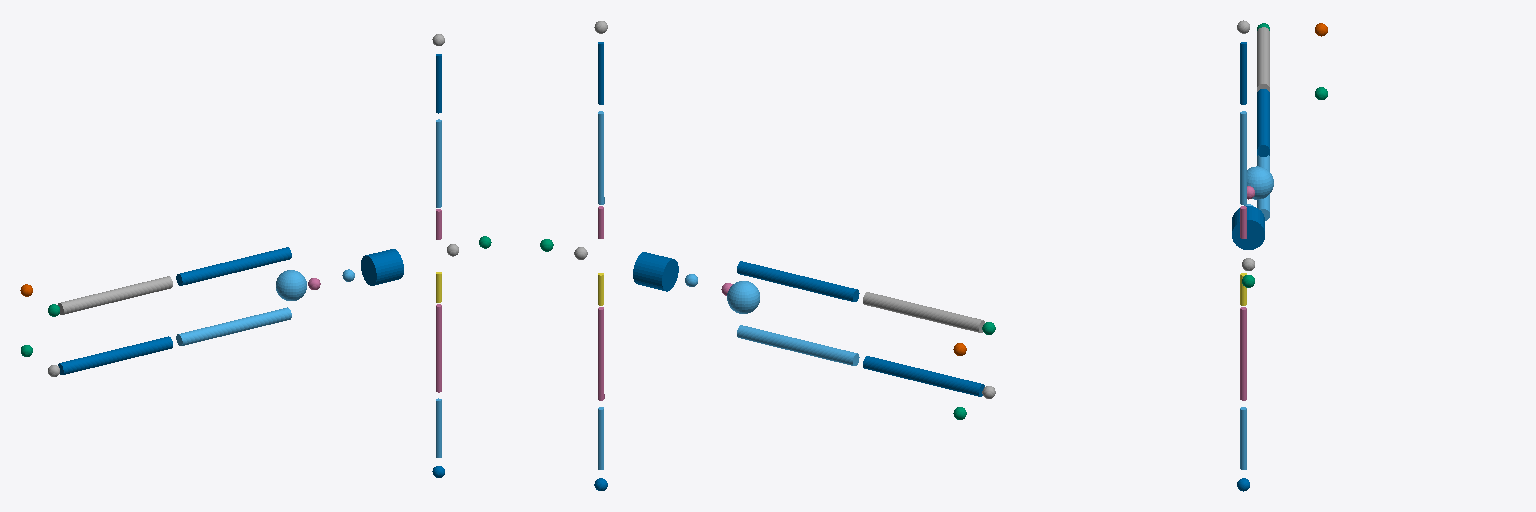
--- What the picture shows (computed from the rendered views, not written in the file) ---
The picture shows the robot from 3 angles, left to right: view 1: azimuth 30°, elevation 25°; view 2: azimuth 150°, elevation 25°; view 3: azimuth 270°, elevation 25°; orthographic projection.
Robot: bvh_human_3dof_tpose — 70 links, 69 joints (27 revolute, 41 fixed, 1 floating); root link world; default pose: every joint at zero.
Links seen in each view (by area): view 1: LeftUpLeg, RightUpLeg, RightLeg, LeftLeg, Spine2, Hips, LeftArm, RightArm; view 2: LeftUpLeg, RightUpLeg, LeftLeg, RightLeg, Spine2, Hips, LeftArm, RightArm; view 3: Spine2, LeftUpLeg, LeftLeg, Hips, LeftArm, RightArm.
Boxes of the visible links, x1=… form: LeftUpLeg: x1=176, y1=247, x2=291, y2=285; RightUpLeg: x1=176, y1=307, x2=291, y2=345; RightLeg: x1=58, y1=336, x2=172, y2=374; LeftLeg: x1=58, y1=276, x2=172, y2=314; Spine2: x1=361, y1=249, x2=403, y2=285; Hips: x1=276, y1=270, x2=306, y2=300; LeftArm: x1=436, y1=119, x2=441, y2=207; RightArm: x1=436, y1=304, x2=441, y2=392; LeftUpLeg: x1=737, y1=261, x2=859, y2=301; RightUpLeg: x1=737, y1=325, x2=859, y2=365; LeftLeg: x1=863, y1=292, x2=984, y2=332; RightLeg: x1=863, y1=356, x2=984, y2=396; Spine2: x1=633, y1=252, x2=678, y2=291; Hips: x1=727, y1=281, x2=759, y2=313; LeftArm: x1=598, y1=111, x2=604, y2=204; RightArm: x1=598, y1=307, x2=604, y2=400; Spine2: x1=1232, y1=206, x2=1264, y2=249; LeftUpLeg: x1=1257, y1=89, x2=1269, y2=156; LeftLeg: x1=1257, y1=27, x2=1269, y2=91; Hips: x1=1247, y1=166, x2=1273, y2=199; LeftArm: x1=1240, y1=111, x2=1246, y2=204; RightArm: x1=1240, y1=307, x2=1246, y2=400.
Bounding box of the posed robot: 1.59 × 0.2876 × 1.55 m (x, y, z).
Geometry: primitives only (box / cylinder / sphere), no mesh files.

The robot description file, URDF, robot "bvh_human_3dof_tpose":
<?xml version="1.0"?>
<robot name="bvh_human_3dof_tpose">

  <mujoco>
    <compiler meshdir="meshes" 
              fusestatic="false"
              discardvisual="false"
              strippath="false"
              balanceinertia="true"/>
  </mujoco>

  <!-- [CAUTION] uncomment when convert to mujoco -->
  <link name="world"></link>
  <joint name="floating_base_joint" type="floating">
    <parent link="world"/>
    <child link="Hips"/>
  </joint>

  <link name="Hips">
    <inertial>
      <origin xyz="0 0 0" rpy="0 0 0"/>
      <mass value="1.0"/>
      <inertia ixx="0.01" ixy="0.0" ixz="0.0" iyy="0.01" iyz="0.0" izz="0.01"/>
    </inertial>
    <visual>
      <geometry>
        <sphere radius="0.05"/>
      </geometry>
    </visual>
  </link>

  <!-- ==================== Left Leg ==================== -->
  <link name="LeftUpLeg_rz">
    <inertial>
      <origin xyz="0 0 0" rpy="0 0 0"/>
      <mass value="1.0"/>
      <inertia ixx="0.01" ixy="0.0" ixz="0.0" iyy="0.01" iyz="0.0" izz="0.01"/>
    </inertial>
  </link>

  <link name="LeftUpLeg_ry">
    <inertial>
      <origin xyz="0 0 0" rpy="0 0 0"/>
      <mass value="1.0"/>
      <inertia ixx="0.01" ixy="0.0" ixz="0.0" iyy="0.01" iyz="0.0" izz="0.01"/>
    </inertial>
  </link>

  <link name="LeftUpLeg">
    <inertial>
      <origin xyz="0 0 0" rpy="0 0 0"/>
      <mass value="1.0"/>
      <inertia ixx="0.01" ixy="0.0" ixz="0.0" iyy="0.01" iyz="0.0" izz="0.01"/>
    </inertial>
    <visual>
      <origin xyz="0.2 -0.0 -0.0" rpy="0 1.57 0" />
      <geometry>
        <cylinder radius="0.02" length="0.4" />
      </geometry>
    </visual>
  </link>

  <!-- LeftUpLeg Z/Y/X = (-180, 0, 180) deg -->
  <joint name="Hips_to_LeftUpLeg_rz" type="revolute">
    <parent link="Hips"/>
    <child link="LeftUpLeg_rz"/>
    <origin xyz="0.00103457 0.01857820 0.10548506" rpy="0 0 -3.1415927"/>
    <axis xyz="0 0 1"/>
    <limit lower="-3.14159" upper="3.14159" effort="100" velocity="10"/>
  </joint>

  <joint name="LeftUpLeg_rz_to_LeftUpLeg_ry" type="revolute">
    <parent link="LeftUpLeg_rz"/>
    <child link="LeftUpLeg_ry"/>
    <origin xyz="0 0 0" rpy="0 0 0"/>
    <axis xyz="0 1 0"/>
    <limit lower="-3.14159" upper="3.14159" effort="100" velocity="10"/>
  </joint>

  <joint name="LeftUpLeg_ry_to_LeftUpLeg" type="revolute">
    <parent link="LeftUpLeg_ry"/>
    <child link="LeftUpLeg"/>
    <origin xyz="0 0 0" rpy="3.1415927 0 0"/>
    <axis xyz="1 0 0"/>
    <limit lower="-3.14159" upper="3.14159" effort="100" velocity="10"/>
  </joint>

  <link name="LeftLeg_rz">
    <inertial>
      <origin xyz="0 0 0" rpy="0 0 0"/>
      <mass value="1.0"/>
      <inertia ixx="0.01" ixy="0.0" ixz="0.0" iyy="0.01" iyz="0.0" izz="0.01"/>
    </inertial>
  </link>

  <link name="LeftLeg_ry">
    <inertial>
      <origin xyz="0 0 0" rpy="0 0 0"/>
      <mass value="1.0"/>
      <inertia ixx="0.01" ixy="0.0" ixz="0.0" iyy="0.01" iyz="0.0" izz="0.01"/>
    </inertial>
  </link>

  <link name="LeftLeg">
    <inertial>
      <origin xyz="0 0 0" rpy="0 0 0"/>
      <mass value="1.0"/>
      <inertia ixx="0.01" ixy="0.0" ixz="0.0" iyy="0.01" iyz="0.0" izz="0.01"/>
    </inertial>
    <visual>
      <origin xyz="0.2 -0.0 -0.0" rpy="0 1.57 0" />
      <geometry>
        <cylinder radius="0.02" length="0.4" />
      </geometry>
    </visual>
  </link>

  <!-- LeftLeg Z/Y/X = (0,0,0) -->
  <joint name="LeftUpLeg_to_LeftLeg_rz" type="revolute">
    <parent link="LeftUpLeg"/>
    <child link="LeftLeg_rz"/>
    <origin xyz="0.43500000 -0.00000019 0.00000002" rpy="0 0 0"/>
    <axis xyz="0 0 1"/>
    <limit lower="-3.14159" upper="3.14159" effort="100" velocity="10"/>
  </joint>

  <joint name="LeftLeg_rz_to_LeftLeg_ry" type="fixed">
    <parent link="LeftLeg_rz"/>
    <child link="LeftLeg_ry"/>
    <origin xyz="0 0 0" rpy="0 0 0"/>
    <axis xyz="0 1 0"/>
    <limit lower="-3.14159" upper="3.14159" effort="100" velocity="10"/>
  </joint>

  <joint name="LeftLeg_ry_to_LeftLeg" type="fixed">
    <parent link="LeftLeg_ry"/>
    <child link="LeftLeg"/>
    <origin xyz="0 0 0" rpy="0 0 0"/>
    <axis xyz="1 0 0"/>
    <limit lower="-3.14159" upper="3.14159" effort="100" velocity="10"/>
  </joint>

  <link name="LeftFoot_rz">
    <inertial>
      <origin xyz="0 0 0" rpy="0 0 0"/>
      <mass value="1.0"/>
      <inertia ixx="0.01" ixy="0.0" ixz="0.0" iyy="0.01" iyz="0.0" izz="0.01"/>
    </inertial>
  </link>

  <link name="LeftFoot_ry">
    <inertial>
      <origin xyz="0 0 0" rpy="0 0 0"/>
      <mass value="1.0"/>
      <inertia ixx="0.01" ixy="0.0" ixz="0.0" iyy="0.01" iyz="0.0" izz="0.01"/>
    </inertial>
  </link>

  <link name="LeftFoot">
    <inertial>
      <origin xyz="0 0 0" rpy="0 0 0"/>
      <mass value="1.0"/>
      <inertia ixx="0.01" ixy="0.0" ixz="0.0" iyy="0.01" iyz="0.0" izz="0.01"/>
    </inertial>
    <visual>
      <geometry>
        <sphere radius="0.02"/>
      </geometry>
    </visual>
  </link>

  <!-- LeftFoot Z/Y/X = (90, 0, 0) deg -->
  <joint name="LeftLeg_to_LeftFoot_rz" type="revolute">
    <parent link="LeftLeg"/>
    <child link="LeftFoot_rz"/>
    <origin xyz="0.42372200 -0.00000004 0.00000003" rpy="0 0 1.5707963"/>
    <axis xyz="0 0 1"/>
    <limit lower="-3.14159" upper="3.14159" effort="100" velocity="10"/>
  </joint>

  <joint name="LeftFoot_rz_to_LeftFoot_ry" type="fixed">
    <parent link="LeftFoot_rz"/>
    <child link="LeftFoot_ry"/>
    <origin xyz="0 0 0" rpy="0 0 0"/>
    <axis xyz="0 1 0"/>
    <limit lower="-3.14159" upper="3.14159" effort="100" velocity="10"/>
  </joint>

  <joint name="LeftFoot_ry_to_LeftFoot" type="revolute">
    <parent link="LeftFoot_ry"/>
    <child link="LeftFoot"/>
    <origin xyz="0 0 0" rpy="0 0 0"/>
    <axis xyz="1 0 0"/>
    <limit lower="-3.14159" upper="3.14159" effort="100" velocity="10"/>
  </joint>

  <link name="LeftToe_rz">
    <inertial>
      <origin xyz="0 0 0" rpy="0 0 0"/>
      <mass value="1.0"/>
      <inertia ixx="0.01" ixy="0.0" ixz="0.0" iyy="0.01" iyz="0.0" izz="0.01"/>
    </inertial>
  </link>

  <link name="LeftToe_ry">
    <inertial>
      <origin xyz="0 0 0" rpy="0 0 0"/>
      <mass value="1.0"/>
      <inertia ixx="0.01" ixy="0.0" ixz="0.0" iyy="0.01" iyz="0.0" izz="0.01"/>
    </inertial>
  </link>

  <link name="LeftToe">
    <inertial>
      <origin xyz="0 0 0" rpy="0 0 0"/>
      <mass value="1.0"/>
      <inertia ixx="0.01" ixy="0.0" ixz="0.0" iyy="0.01" iyz="0.0" izz="0.01"/>
    </inertial>
    <visual>
      <geometry>
        <sphere radius="0.02"/>
      </geometry>
    </visual>
  </link>

  <!-- LeftToe Z/Y/X = (0,0,0) -->
  <joint name="LeftFoot_to_LeftToe_rz" type="fixed">
    <parent link="LeftFoot"/>
    <child link="LeftToe_rz"/>
    <origin xyz="0.17300009 0.00000002 0.00000006" rpy="0 0 0"/>
    <axis xyz="0 0 1"/>
    <limit lower="-3.14159" upper="3.14159" effort="100" velocity="10"/>
  </joint>

  <joint name="LeftToe_rz_to_LeftToe_ry" type="fixed">
    <parent link="LeftToe_rz"/>
    <child link="LeftToe_ry"/>
    <origin xyz="0 0 0" rpy="0 0 0"/>
    <axis xyz="0 1 0"/>
    <limit lower="-3.14159" upper="3.14159" effort="100" velocity="10"/>
  </joint>

  <joint name="LeftToe_ry_to_LeftToe" type="fixed">
    <parent link="LeftToe_ry"/>
    <child link="LeftToe"/>
    <origin xyz="0 0 0" rpy="0 0 0"/>
    <axis xyz="1 0 0"/>
    <limit lower="-3.14159" upper="3.14159" effort="100" velocity="10"/>
  </joint>

  <link name="LeftToe_End">
    <inertial>
      <origin xyz="0 0 0" rpy="0 0 0"/>
      <mass value="1.0"/>
      <inertia ixx="0.01" ixy="0.0" ixz="0.0" iyy="0.01" iyz="0.0" izz="0.01"/>
    </inertial>
    <visual>
      <geometry>
        <sphere radius="0.02"/>
      </geometry>
    </visual>
  </link>

  <joint name="LeftToe_to_LeftToe_End" type="fixed">
    <parent link="LeftToe"/>
    <child link="LeftToe_End"/>
    <origin xyz="0 0 0" rpy="0 0 0"/>
  </joint>

  <!-- ==================== Right Leg ==================== -->
  <link name="RightUpLeg_rz">
    <inertial>
      <origin xyz="0 0 0" rpy="0 0 0"/>
      <mass value="1.0"/>
      <inertia ixx="0.01" ixy="0.0" ixz="0.0" iyy="0.01" iyz="0.0" izz="0.01"/>
    </inertial>
  </link>

  <link name="RightUpLeg_ry">
    <inertial>
      <origin xyz="0 0 0" rpy="0 0 0"/>
      <mass value="1.0"/>
      <inertia ixx="0.01" ixy="0.0" ixz="0.0" iyy="0.01" iyz="0.0" izz="0.01"/>
    </inertial>
  </link>

  <link name="RightUpLeg">
    <inertial>
      <origin xyz="0 0 0" rpy="0 0 0"/>
      <mass value="1.0"/>
      <inertia ixx="0.01" ixy="0.0" ixz="0.0" iyy="0.01" iyz="0.0" izz="0.01"/>
    </inertial>
    <visual>
      <origin xyz="0.2 -0.0 -0.0" rpy="0 1.57 0" />
      <geometry>
        <cylinder radius="0.02" length="0.4" />
      </geometry>
    </visual>
  </link>

  <!-- RightUpLeg Z/Y/X = (-180, 0, -180) deg -->
  <joint name="Hips_to_RightUpLeg_rz" type="revolute">
    <parent link="Hips"/>
    <child link="RightUpLeg_rz"/>
    <origin xyz="0.00103459 0.01857818 -0.10548504" rpy="0 0 -3.1415927"/>
    <axis xyz="0 0 1"/>
    <limit lower="-3.14159" upper="3.14159" effort="100" velocity="10"/>
  </joint>

  <joint name="RightUpLeg_rz_to_RightUpLeg_ry" type="revolute">
    <parent link="RightUpLeg_rz"/>
    <child link="RightUpLeg_ry"/>
    <origin xyz="0 0 0" rpy="0 0 0"/>
    <axis xyz="0 1 0"/>
    <limit lower="-3.14159" upper="3.14159" effort="100" velocity="10"/>
  </joint>

  <joint name="RightUpLeg_ry_to_RightUpLeg" type="revolute">
    <parent link="RightUpLeg_ry"/>
    <child link="RightUpLeg"/>
    <!-- X = -180deg -->
    <origin xyz="0 0 0" rpy="-3.1415927 0 0"/>
    <axis xyz="1 0 0"/>
    <limit lower="-3.14159" upper="3.14159" effort="100" velocity="10"/>
  </joint>

  <link name="RightLeg_rz">
    <inertial>
      <origin xyz="0 0 0" rpy="0 0 0"/>
      <mass value="1.0"/>
      <inertia ixx="0.01" ixy="0.0" ixz="0.0" iyy="0.01" iyz="0.0" izz="0.01"/>
    </inertial>
  </link>

  <link name="RightLeg_ry">
    <inertial>
      <origin xyz="0 0 0" rpy="0 0 0"/>
      <mass value="1.0"/>
      <inertia ixx="0.01" ixy="0.0" ixz="0.0" iyy="0.01" iyz="0.0" izz="0.01"/>
    </inertial>
  </link>

  <link name="RightLeg">
    <inertial>
      <origin xyz="0 0 0" rpy="0 0 0"/>
      <mass value="1.0"/>
      <inertia ixx="0.01" ixy="0.0" ixz="0.0" iyy="0.01" iyz="0.0" izz="0.01"/>
    </inertial>
    <visual>
      <origin xyz="0.2 -0.0 -0.0" rpy="0 1.57 0" />
      <geometry>
        <cylinder radius="0.02" length="0.4" />
      </geometry>
    </visual>
  </link>

  <!-- RightLeg Z/Y/X = (0,0,0) -->
  <joint name="RightUpLeg_to_RightLeg_rz" type="revolute">
    <parent link="RightUpLeg"/>
    <child link="RightLeg_rz"/>
    <origin xyz="0.43500042 -0.00000015 0.00000010" rpy="0 0 0"/>
    <axis xyz="0 0 1"/>
    <limit lower="-3.14159" upper="3.14159" effort="100" velocity="10"/>
  </joint>

  <joint name="RightLeg_rz_to_RightLeg_ry" type="fixed">
    <parent link="RightLeg_rz"/>
    <child link="RightLeg_ry"/>
    <origin xyz="0 0 0" rpy="0 0 0"/>
    <axis xyz="0 1 0"/>
    <limit lower="-3.14159" upper="3.14159" effort="100" velocity="10"/>
  </joint>

  <joint name="RightLeg_ry_to_RightLeg" type="fixed">
    <parent link="RightLeg_ry"/>
    <child link="RightLeg"/>
    <origin xyz="0 0 0" rpy="0 0 0"/>
    <axis xyz="1 0 0"/>
    <limit lower="-3.14159" upper="3.14159" effort="100" velocity="10"/>
  </joint>

  <link name="RightFoot_rz">
    <inertial>
      <origin xyz="0 0 0" rpy="0 0 0"/>
      <mass value="1.0"/>
      <inertia ixx="0.01" ixy="0.0" ixz="0.0" iyy="0.01" iyz="0.0" izz="0.01"/>
    </inertial>
  </link>

  <link name="RightFoot_ry">
    <inertial>
      <origin xyz="0 0 0" rpy="0 0 0"/>
      <mass value="1.0"/>
      <inertia ixx="0.01" ixy="0.0" ixz="0.0" iyy="0.01" iyz="0.0" izz="0.01"/>
    </inertial>
  </link>

  <link name="RightFoot">
    <inertial>
      <origin xyz="0 0 0" rpy="0 0 0"/>
      <mass value="1.0"/>
      <inertia ixx="0.01" ixy="0.0" ixz="0.0" iyy="0.01" iyz="0.0" izz="0.01"/>
    </inertial>
    <visual>
      <geometry>
        <sphere radius="0.02"/>
      </geometry>
    </visual>
  </link>

  <!-- RightFoot Z/Y/X = (90,0,0) deg -->
  <joint name="RightLeg_to_RightFoot_rz" type="revolute">
    <parent link="RightLeg"/>
    <child link="RightFoot_rz"/>
    <origin xyz="0.42372261 -0.00000008 0.00000010" rpy="0 0 1.5707963"/>
    <axis xyz="0 0 1"/>
    <limit lower="-3.14159" upper="3.14159" effort="100" velocity="10"/>
  </joint>

  <joint name="RightFoot_rz_to_RightFoot_ry" type="fixed">
    <parent link="RightFoot_rz"/>
    <child link="RightFoot_ry"/>
    <origin xyz="0 0 0" rpy="0 0 0"/>
    <axis xyz="0 1 0"/>
    <limit lower="-3.14159" upper="3.14159" effort="100" velocity="10"/>
  </joint>

  <joint name="RightFoot_ry_to_RightFoot" type="revolute">
    <parent link="RightFoot_ry"/>
    <child link="RightFoot"/>
    <origin xyz="0 0 0" rpy="0 0 0"/>
    <axis xyz="1 0 0"/>
    <limit lower="-3.14159" upper="3.14159" effort="100" velocity="10"/>
  </joint>

  <link name="RightToe_rz">
    <inertial>
      <origin xyz="0 0 0" rpy="0 0 0"/>
      <mass value="1.0"/>
      <inertia ixx="0.01" ixy="0.0" ixz="0.0" iyy="0.01" iyz="0.0" izz="0.01"/>
    </inertial>
  </link>

  <link name="RightToe_ry">
    <inertial>
      <origin xyz="0 0 0" rpy="0 0 0"/>
      <mass value="1.0"/>
      <inertia ixx="0.01" ixy="0.0" ixz="0.0" iyy="0.01" iyz="0.0" izz="0.01"/>
    </inertial>
  </link>

  <link name="RightToe">
    <inertial>
      <origin xyz="0 0 0" rpy="0 0 0"/>
      <mass value="1.0"/>
      <inertia ixx="0.01" ixy="0.0" ixz="0.0" iyy="0.01" iyz="0.0" izz="0.01"/>
    </inertial>
    <visual>
      <geometry>
        <sphere radius="0.02"/>
      </geometry>
    </visual>
  </link>

  <!-- RightToe Z/Y/X = (0,0,0) -->
  <joint name="RightFoot_to_RightToe_rz" type="fixed">
    <parent link="RightFoot"/>
    <child link="RightToe_rz"/>
    <origin xyz="0.17299995 -0.00000005 0.00000000" rpy="0 0 0"/>
    <axis xyz="0 0 1"/>
    <limit lower="-3.14159" upper="3.14159" effort="100" velocity="10"/>
  </joint>

  <joint name="RightToe_rz_to_RightToe_ry" type="fixed">
    <parent link="RightToe_rz"/>
    <child link="RightToe_ry"/>
    <origin xyz="0 0 0" rpy="0 0 0"/>
    <axis xyz="0 1 0"/>
    <limit lower="-3.14159" upper="3.14159" effort="100" velocity="10"/>
  </joint>

  <joint name="RightToe_ry_to_RightToe" type="fixed">
    <parent link="RightToe_ry"/>
    <child link="RightToe"/>
    <origin xyz="0 0 0" rpy="0 0 0"/>
    <axis xyz="1 0 0"/>
    <limit lower="-3.14159" upper="3.14159" effort="100" velocity="10"/>
  </joint>

  <link name="RightToe_End">
    <inertial>
      <origin xyz="0 0 0" rpy="0 0 0"/>
      <mass value="1.0"/>
      <inertia ixx="0.01" ixy="0.0" ixz="0.0" iyy="0.01" iyz="0.0" izz="0.01"/>
    </inertial>
    <visual>
      <geometry>
        <sphere radius="0.02"/>
      </geometry>
    </visual>
  </link>

  <joint name="RightToe_to_RightToe_End" type="fixed">
    <parent link="RightToe"/>
    <child link="RightToe_End"/>
    <origin xyz="0 0 0" rpy="0 0 0"/>
  </joint>

  <!-- ==================== Spine & Head ==================== -->
  <link name="Spine_rz">
    <inertial>
      <origin xyz="0 0 0" rpy="0 0 0"/>
      <mass value="1.0"/>
      <inertia ixx="0.01" ixy="0.0" ixz="0.0" iyy="0.01" iyz="0.0" izz="0.01"/>
    </inertial>
  </link>

  <link name="Spine_ry">
    <inertial>
      <origin xyz="0 0 0" rpy="0 0 0"/>
      <mass value="1.0"/>
      <inertia ixx="0.01" ixy="0.0" ixz="0.0" iyy="0.01" iyz="0.0" izz="0.01"/>
    </inertial>
  </link>

  <link name="Spine">
    <inertial>
      <origin xyz="0 0 0" rpy="0 0 0"/>
      <mass value="1.0"/>
      <inertia ixx="0.01" ixy="0.0" ixz="0.0" iyy="0.01" iyz="0.0" izz="0.01"/>
    </inertial>
    <visual>
      <geometry>
        <sphere radius="0.02"/>
      </geometry>
    </visual>
  </link>

  <!-- Spine Z/Y/X = (0,0,0) -->
  <joint name="Hips_to_Spine_rz" type="fixed">
    <parent link="Hips"/>
    <child link="Spine_rz"/>
    <origin xyz="0.06901967 -0.02603743 0.00000001" rpy="0 0 0"/>
    <axis xyz="0 0 1"/>
    <limit lower="-3.14159" upper="3.14159" effort="100" velocity="10"/>
  </joint>

  <joint name="Spine_rz_to_Spine_ry" type="fixed">
    <parent link="Spine_rz"/>
    <child link="Spine_ry"/>
    <origin xyz="0 0 0" rpy="0 0 0"/>
    <axis xyz="0 1 0"/>
    <limit lower="-3.14159" upper="3.14159" effort="100" velocity="10"/>
  </joint>

  <joint name="Spine_ry_to_Spine" type="revolute">
    <parent link="Spine_ry"/>
    <child link="Spine"/>
    <origin xyz="0 0 0" rpy="0 0 0"/>
    <axis xyz="1 0 0"/>
    <limit lower="-3.14159" upper="3.14159" effort="100" velocity="10"/>
  </joint>

  <link name="Spine1_rz">
    <inertial>
      <origin xyz="0 0 0" rpy="0 0 0"/>
      <mass value="1.0"/>
      <inertia ixx="0.01" ixy="0.0" ixz="0.0" iyy="0.01" iyz="0.0" izz="0.01"/>
    </inertial>
  </link>

  <link name="Spine1_ry">
    <inertial>
      <origin xyz="0 0 0" rpy="0 0 0"/>
      <mass value="1.0"/>
      <inertia ixx="0.01" ixy="0.0" ixz="0.0" iyy="0.01" iyz="0.0" izz="0.01"/>
    </inertial>
  </link>

  <link name="Spine1">
    <inertial>
      <origin xyz="0 0 0" rpy="0 0 0"/>
      <mass value="1.0"/>
      <inertia ixx="0.01" ixy="0.0" ixz="0.0" iyy="0.01" iyz="0.0" izz="0.01"/>
    </inertial>
    <visual>
      <geometry>
        <sphere radius="0.02"/>
      </geometry>
    </visual>
  </link>

  <!-- Spine1 Z/Y/X = (0,0,0) -->
  <joint name="Spine_to_Spine1_rz" type="revolute">
    <parent link="Spine"/>
    <child link="Spine1_rz"/>
    <origin xyz="0.12588100 0.00000016 -0.00000005" rpy="0 0 0"/>
    <axis xyz="0 0 1"/>
    <limit lower="-3.14159" upper="3.14159" effort="100" velocity="10"/>
  </joint>

  <joint name="Spine1_rz_to_Spine1_ry" type="revolute">
    <parent link="Spine1_rz"/>
    <child link="Spine1_ry"/>
    <origin xyz="0 0 0" rpy="0 0 0"/>
    <axis xyz="0 1 0"/>
    <limit lower="-3.14159" upper="3.14159" effort="100" velocity="10"/>
  </joint>

  <joint name="Spine1_ry_to_Spine1" type="fixed">
    <parent link="Spine1_ry"/>
    <child link="Spine1"/>
    <origin xyz="0 0 0" rpy="0 0 0"/>
    <axis xyz="1 0 0"/>
    <limit lower="-3.14159" upper="3.14159" effort="100" velocity="10"/>
  </joint>

  <link name="Spine2_rz">
    <inertial>
      <origin xyz="0 0 0" rpy="0 0 0"/>
      <mass value="1.0"/>
      <inertia ixx="0.01" ixy="0.0" ixz="0.0" iyy="0.01" iyz="0.0" izz="0.01"/>
    </inertial>
  </link>

  <link name="Spine2_ry">
    <inertial>
      <origin xyz="0 0 0" rpy="0 0 0"/>
      <mass value="1.0"/>
      <inertia ixx="0.01" ixy="0.0" ixz="0.0" iyy="0.01" iyz="0.0" izz="0.01"/>
    </inertial>
  </link>

  <link name="Spine2">
    <inertial>
      <origin xyz="0 0 0" rpy="0 0 0"/>
      <mass value="1.0"/>
      <inertia ixx="0.01" ixy="0.0" ixz="0.0" iyy="0.01" iyz="0.0" izz="0.01"/>
    </inertial>
    <visual>
      <origin xyz="0.0 -0.0 -0.0" rpy="0 1.57 0" />
      <geometry>
        <cylinder radius="0.05" length="0.1" />
      </geometry>
    </visual>
  </link>

  <!-- Spine2 Z/Y/X = (0,0,0) -->
  <joint name="Spine1_to_Spine2_rz" type="fixed">
    <parent link="Spine1"/>
    <child link="Spine2_rz"/>
    <origin xyz="0.12343201 -0.00000011 -0.00000005" rpy="0 0 0"/>
    <axis xyz="0 0 1"/>
    <limit lower="-3.14159" upper="3.14159" effort="100" velocity="10"/>
  </joint>

  <joint name="Spine2_rz_to_Spine2_ry" type="fixed">
    <parent link="Spine2_rz"/>
    <child link="Spine2_ry"/>
    <origin xyz="0 0 0" rpy="0 0 0"/>
    <axis xyz="0 1 0"/>
    <limit lower="-3.14159" upper="3.14159" effort="100" velocity="10"/>
  </joint>

  <joint name="Spine2_ry_to_Spine2" type="fixed">
    <parent link="Spine2_ry"/>
    <child link="Spine2"/>
    <origin xyz="0 0 0" rpy="0 0 0"/>
    <axis xyz="1 0 0"/>
    <limit lower="-3.14159" upper="3.14159" effort="100" velocity="10"/>
  </joint>

  <link name="Neck_rz">
    <inertial>
      <origin xyz="0 0 0" rpy="0 0 0"/>
      <mass value="1.0"/>
      <inertia ixx="0.01" ixy="0.0" ixz="0.0" iyy="0.01" iyz="0.0" izz="0.01"/>
    </inertial>
  </link>

  <link name="Neck_ry">
    <inertial>
      <origin xyz="0 0 0" rpy="0 0 0"/>
      <mass value="1.0"/>
      <inertia ixx="0.01" ixy="0.0" ixz="0.0" iyy="0.01" iyz="0.0" izz="0.01"/>
    </inertial>
  </link>

  <link name="Neck">
    <inertial>
      <origin xyz="0 0 0" rpy="0 0 0"/>
      <mass value="1.0"/>
      <inertia ixx="0.01" ixy="0.0" ixz="0.0" iyy="0.01" iyz="0.0" izz="0.01"/>
    </inertial>
    <visual>
      <geometry>
        <sphere radius="0.02"/>
      </geometry>
    </visual>
  </link>

  <!-- Neck Z/Y/X = (0,0,0) -->
  <joint name="Spine2_to_Neck_rz" type="fixed">
    <parent link="Spine2"/>
    <child link="Neck_rz"/>
    <origin xyz="0.25832895 0.00000008 0.00000006" rpy="0 0 0"/>
    <axis xyz="0 0 1"/>
    <limit lower="-3.14159" upper="3.14159" effort="100" velocity="10"/>
  </joint>

  <joint name="Neck_rz_to_Neck_ry" type="fixed">
    <parent link="Neck_rz"/>
    <child link="Neck_ry"/>
    <origin xyz="0 0 0" rpy="0 0 0"/>
    <axis xyz="0 1 0"/>
    <limit lower="-3.14159" upper="3.14159" effort="100" velocity="10"/>
  </joint>

  <joint name="Neck_ry_to_Neck" type="fixed">
    <parent link="Neck_ry"/>
    <child link="Neck"/>
    <origin xyz="0 0 0" rpy="0 0 0"/>
    <axis xyz="1 0 0"/>
    <limit lower="-3.14159" upper="3.14159" effort="100" velocity="10"/>
  </joint>

  <link name="Head_rz">
    <inertial>
      <origin xyz="0 0 0" rpy="0 0 0"/>
      <mass value="1.0"/>
      <inertia ixx="0.01" ixy="0.0" ixz="0.0" iyy="0.01" iyz="0.0" izz="0.01"/>
    </inertial>
  </link>

  <link name="Head_ry">
    <inertial>
      <origin xyz="0 0 0" rpy="0 0 0"/>
      <mass value="1.0"/>
      <inertia ixx="0.01" ixy="0.0" ixz="0.0" iyy="0.01" iyz="0.0" izz="0.01"/>
    </inertial>
  </link>

  <link name="Head">
    <inertial>
      <origin xyz="0 0 0" rpy="0 0 0"/>
      <mass value="1.0"/>
      <inertia ixx="0.01" ixy="0.0" ixz="0.0" iyy="0.01" iyz="0.0" izz="0.01"/>
    </inertial>
    <visual>
      <geometry>
        <sphere radius="0.02"/>
      </geometry>
    </visual>
  </link>

  <!-- Head Z/Y/X = (0,0,0) -->
  <joint name="Neck_to_Head_rz" type="fixed">
    <parent link="Neck"/>
    <child link="Head_rz"/>
    <origin xyz="0.11766613 -0.00000004 -0.00000002" rpy="0 0 0"/>
    <axis xyz="0 0 1"/>
    <limit lower="-3.14159" upper="3.14159" effort="100" velocity="10"/>
  </joint>

  <joint name="Head_rz_to_Head_ry" type="fixed">
    <parent link="Head_rz"/>
    <child link="Head_ry"/>
    <origin xyz="0 0 0" rpy="0 0 0"/>
    <axis xyz="0 1 0"/>
    <limit lower="-3.14159" upper="3.14159" effort="100" velocity="10"/>
  </joint>

  <joint name="Head_ry_to_Head" type="fixed">
    <parent link="Head_ry"/>
    <child link="Head"/>
    <origin xyz="0 0 0" rpy="0 0 0"/>
    <axis xyz="1 0 0"/>
    <limit lower="-3.14159" upper="3.14159" effort="100" velocity="10"/>
  </joint>

  <link name="Head_End">
    <inertial>
      <origin xyz="0 0 0" rpy="0 0 0"/>
      <mass value="1.0"/>
      <inertia ixx="0.01" ixy="0.0" ixz="0.0" iyy="0.01" iyz="0.0" izz="0.01"/>
    </inertial>
    <visual>
      <geometry>
        <sphere radius="0.02"/>
      </geometry>
    </visual>
  </link>

  <joint name="Head_to_Head_End" type="fixed">
    <parent link="Head"/>
    <child link="Head_End"/>
    <origin xyz="0 0 0" rpy="0 0 0"/>
  </joint>

  <!-- ==================== Left Arm ==================== -->
  <link name="LeftShoulder_rz">
    <inertial>
      <origin xyz="0 0 0" rpy="0 0 0"/>
      <mass value="1.0"/>
      <inertia ixx="0.01" ixy="0.0" ixz="0.0" iyy="0.01" iyz="0.0" izz="0.01"/>
    </inertial>
  </link>

  <link name="LeftShoulder_ry">
    <inertial>
      <origin xyz="0 0 0" rpy="0 0 0"/>
      <mass value="1.0"/>
      <inertia ixx="0.01" ixy="0.0" ixz="0.0" iyy="0.01" iyz="0.0" izz="0.01"/>
    </inertial>
  </link>

  <link name="LeftShoulder">
    <inertial>
      <origin xyz="0 0 0" rpy="0 0 0"/>
      <mass value="1.0"/>
      <inertia ixx="0.01" ixy="0.0" ixz="0.0" iyy="0.01" iyz="0.0" izz="0.01"/>
    </inertial>
    <visual>
      <origin xyz="0.05 -0.0 -0.0" rpy="0 1.57 0" />
      <geometry>
        <cylinder radius="0.01" length="0.1" />
      </geometry>
    </visual>
  </link>

  <!-- LeftShoulder Z/Y/X = (-90, -90, -90) deg -->
  <joint name="Spine2_to_LeftShoulder_rz" type="revolute">
    <parent link="Spine2"/>
    <child link="LeftShoulder_rz"/>
    <origin xyz="0.19745897 -0.01480371 0.06000116" rpy="0 0 -1.5707963"/>
    <axis xyz="0 0 1"/>
    <limit lower="-3.14159" upper="3.14159" effort="100" velocity="10"/>
  </joint>

  <joint name="LeftShoulder_rz_to_LeftShoulder_ry" type="revolute">
    <parent link="LeftShoulder_rz"/>
    <child link="LeftShoulder_ry"/>
    <origin xyz="0 0 0" rpy="0 -1.5707963 0"/>
    <axis xyz="0 1 0"/>
    <limit lower="-3.14159" upper="3.14159" effort="100" velocity="10"/>
  </joint>

  <joint name="LeftShoulder_ry_to_LeftShoulder" type="fixed">
    <parent link="LeftShoulder_ry"/>
    <child link="LeftShoulder"/>
    <origin xyz="0 0 0" rpy="-1.5707963 0 0"/>
    <axis xyz="1 0 0"/>
    <limit lower="-3.14159" upper="3.14159" effort="100" velocity="10"/>
  </joint>

  <link name="LeftArm_rz">
    <inertial>
      <origin xyz="0 0 0" rpy="0 0 0"/>
      <mass value="1.0"/>
      <inertia ixx="0.01" ixy="0.0" ixz="0.0" iyy="0.01" iyz="0.0" izz="0.01"/>
    </inertial>
  </link>

  <link name="LeftArm_ry">
    <inertial>
      <origin xyz="0 0 0" rpy="0 0 0"/>
      <mass value="1.0"/>
      <inertia ixx="0.01" ixy="0.0" ixz="0.0" iyy="0.01" iyz="0.0" izz="0.01"/>
    </inertial>
  </link>

  <link name="LeftArm">
    <inertial>
      <origin xyz="0 0 0" rpy="0 0 0"/>
      <mass value="1.0"/>
      <inertia ixx="0.01" ixy="0.0" ixz="0.0" iyy="0.01" iyz="0.0" izz="0.01"/>
    </inertial>
    <visual>
      <origin xyz="0.15 -0.0 -0.0" rpy="0 1.57 0" />
      <geometry>
        <cylinder radius="0.01" length="0.3" />
      </geometry>
    </visual>
  </link>

  <!-- LeftArm Z/Y/X = (0,0,0) -->
  <joint name="LeftShoulder_to_LeftArm_rz" type="revolute">
    <parent link="LeftShoulder"/>
    <child link="LeftArm_rz"/>
    <origin xyz="0.11284124 -0.00000012 -0.00000008" rpy="0 0 0"/>
    <axis xyz="0 0 1"/>
    <limit lower="-3.14159" upper="3.14159" effort="100" velocity="10"/>
  </joint>

  <joint name="LeftArm_rz_to_LeftArm_ry" type="revolute">
    <parent link="LeftArm_rz"/>
    <child link="LeftArm_ry"/>
    <origin xyz="0 0 0" rpy="0 0 0"/>
    <axis xyz="0 1 0"/>
    <!-- 修正：upper 从 -3.14159 改成 3.14159 -->
    <limit lower="-3.14159" upper="3.14159" effort="100" velocity="10"/>
  </joint>

  <joint name="LeftArm_ry_to_LeftArm" type="revolute">
    <parent link="LeftArm_ry"/>
    <child link="LeftArm"/>
    <origin xyz="0 0 0" rpy="0 0 0"/>
    <axis xyz="1 0 0"/>
    <limit lower="-3.14159" upper="3.14159" effort="100" velocity="10"/>
  </joint>

  <link name="LeftForeArm_rz">
    <inertial>
      <origin xyz="0 0 0" rpy="0 0 0"/>
      <mass value="1.0"/>
      <inertia ixx="0.01" ixy="0.0" ixz="0.0" iyy="0.01" iyz="0.0" izz="0.01"/>
    </inertial>
  </link>

  <link name="LeftForeArm_ry">
    <inertial>
      <origin xyz="0 0 0" rpy="0 0 0"/>
      <mass value="1.0"/>
      <inertia ixx="0.01" ixy="0.0" ixz="0.0" iyy="0.01" iyz="0.0" izz="0.01"/>
    </inertial>
  </link>

  <link name="LeftForeArm">
    <inertial>
      <origin xyz="0 0 0" rpy="0 0 0"/>
      <mass value="1.0"/>
      <inertia ixx="0.01" ixy="0.0" ixz="0.0" iyy="0.01" iyz="0.0" izz="0.01"/>
    </inertial>
    <visual>
      <origin xyz="0.1 -0.0 -0.0" rpy="0 1.57 0" />
      <geometry>
        <cylinder radius="0.01" length="0.2" />
      </geometry>
    </visual>
  </link>

  <!-- LeftForeArm Z/Y/X = (0,0,0) -->
  <joint name="LeftArm_to_LeftForeArm_rz" type="revolute">
    <parent link="LeftArm"/>
    <child link="LeftForeArm_rz"/>
    <origin xyz="0.33000046 0.00000002 0.00000022" rpy="0 0 0"/>
    <axis xyz="0 0 1"/>
    <limit lower="-3.14159" upper="3.14159" effort="100" velocity="10"/>
  </joint>

  <joint name="LeftForeArm_rz_to_LeftForeArm_ry" type="fixed">
    <parent link="LeftForeArm_rz"/>
    <child link="LeftForeArm_ry"/>
    <origin xyz="0 0 0" rpy="0 0 0"/>
    <axis xyz="0 1 0"/>
    <limit lower="-3.14159" upper="3.14159" effort="100" velocity="10"/>
  </joint>

  <joint name="LeftForeArm_ry_to_LeftForeArm" type="fixed">
    <parent link="LeftForeArm_ry"/>
    <child link="LeftForeArm"/>
    <origin xyz="0 0 0" rpy="0 0 0"/>
    <axis xyz="1 0 0"/>
    <limit lower="-3.14159" upper="3.14159" effort="100" velocity="10"/>
  </joint>

  <link name="LeftHand_rz">
    <inertial>
      <origin xyz="0 0 0" rpy="0 0 0"/>
      <mass value="1.0"/>
      <inertia ixx="0.01" ixy="0.0" ixz="0.0" iyy="0.01" iyz="0.0" izz="0.01"/>
    </inertial>
  </link>

  <link name="LeftHand_ry">
    <inertial>
      <origin xyz="0 0 0" rpy="0 0 0"/>
      <mass value="1.0"/>
      <inertia ixx="0.01" ixy="0.0" ixz="0.0" iyy="0.01" iyz="0.0" izz="0.01"/>
    </inertial>
  </link>

  <link name="LeftHand">
    <inertial>
      <origin xyz="0 0 0" rpy="0 0 0"/>
      <mass value="1.0"/>
      <inertia ixx="0.01" ixy="0.0" ixz="0.0" iyy="0.01" iyz="0.0" izz="0.01"/>
    </inertial>
    <visual>
      <geometry>
        <sphere radius="0.02"/>
      </geometry>
    </visual>
  </link>

  <!-- LeftHand Z/Y/X = (0,0,0) -->
  <joint name="LeftForeArm_to_LeftHand_rz" type="fixed">
    <parent link="LeftForeArm"/>
    <child link="LeftHand_rz"/>
    <origin xyz="0.25200014 0.00000006 0.00000015" rpy="0 0 0"/>
    <axis xyz="0 0 1"/>
    <limit lower="-3.14159" upper="3.14159" effort="100" velocity="10"/>
  </joint>

  <joint name="LeftHand_rz_to_LeftHand_ry" type="fixed">
    <parent link="LeftHand_rz"/>
    <child link="LeftHand_ry"/>
    <origin xyz="0 0 0" rpy="0 0 0"/>
    <axis xyz="0 1 0"/>
    <limit lower="-3.14159" upper="3.14159" effort="100" velocity="10"/>
  </joint>

  <joint name="LeftHand_ry_to_LeftHand" type="fixed">
    <parent link="LeftHand_ry"/>
    <child link="LeftHand"/>
    <origin xyz="0 0 0" rpy="0 0 0"/>
    <axis xyz="1 0 0"/>
    <limit lower="-3.14159" upper="3.14159" effort="100" velocity="10"/>
  </joint>

  <link name="LeftHand_End">
    <inertial>
      <origin xyz="0 0 0" rpy="0 0 0"/>
      <mass value="1.0"/>
      <inertia ixx="0.01" ixy="0.0" ixz="0.0" iyy="0.01" iyz="0.0" izz="0.01"/>
    </inertial>
    <visual>
      <geometry>
        <sphere radius="0.02"/>
      </geometry>
    </visual>
  </link>

  <joint name="LeftHand_to_LeftHand_End" type="fixed">
    <parent link="LeftHand"/>
    <child link="LeftHand_End"/>
    <origin xyz="0 0 0" rpy="0 0 0"/>
  </joint>

  <!-- ==================== Right Arm ==================== -->
  <link name="RightShoulder_rz">
    <inertial>
      <origin xyz="0 0 0" rpy="0 0 0"/>
      <mass value="1.0"/>
      <inertia ixx="0.01" ixy="0.0" ixz="0.0" iyy="0.01" iyz="0.0" izz="0.01"/>
    </inertial>
  </link>

  <link name="RightShoulder_ry">
    <inertial>
      <origin xyz="0 0 0" rpy="0 0 0"/>
      <mass value="1.0"/>
      <inertia ixx="0.01" ixy="0.0" ixz="0.0" iyy="0.01" iyz="0.0" izz="0.01"/>
    </inertial>
  </link>

  <link name="RightShoulder">
    <inertial>
      <origin xyz="0 0 0" rpy="0 0 0"/>
      <mass value="1.0"/>
      <inertia ixx="0.01" ixy="0.0" ixz="0.0" iyy="0.01" iyz="0.0" izz="0.01"/>
    </inertial>
    <visual>
      <origin xyz="0.05 -0.0 -0.0" rpy="0 1.57 0" />
      <geometry>
        <cylinder radius="0.01" length="0.1" />
      </geometry>
    </visual>
  </link>

  <!-- RightShoulder Z/Y/X = (90, 90, -90) deg -->
  <joint name="Spine2_to_RightShoulder_rz" type="revolute">
    <parent link="Spine2"/>
    <child link="RightShoulder_rz"/>
    <origin xyz="0.19746101 -0.01480377 -0.06000068" rpy="0 0 1.5707963"/>
    <axis xyz="0 0 1"/>
    <limit lower="-3.14159" upper="3.14159" effort="100" velocity="10"/>
  </joint>

  <joint name="RightShoulder_rz_to_RightShoulder_ry" type="revolute">
    <parent link="RightShoulder_rz"/>
    <child link="RightShoulder_ry"/>
    <origin xyz="0 0 0" rpy="0 1.5707963 0"/>
    <axis xyz="0 1 0"/>
    <limit lower="-3.14159" upper="3.14159" effort="100" velocity="10"/>
  </joint>

  <joint name="RightShoulder_ry_to_RightShoulder" type="fixed">
    <parent link="RightShoulder_ry"/>
    <child link="RightShoulder"/>
    <origin xyz="0 0 0" rpy="-1.5707963 0 0"/>
    <axis xyz="1 0 0"/>
    <limit lower="-3.14159" upper="3.14159" effort="100" velocity="10"/>
  </joint>

  <link name="RightArm_rz">
    <inertial>
      <origin xyz="0 0 0" rpy="0 0 0"/>
      <mass value="1.0"/>
      <inertia ixx="0.01" ixy="0.0" ixz="0.0" iyy="0.01" iyz="0.0" izz="0.01"/>
    </inertial>
  </link>

  <link name="RightArm_ry">
    <inertial>
      <origin xyz="0 0 0" rpy="0 0 0"/>
      <mass value="1.0"/>
      <inertia ixx="0.01" ixy="0.0" ixz="0.0" iyy="0.01" iyz="0.0" izz="0.01"/>
    </inertial>
  </link>

  <link name="RightArm">
    <inertial>
      <origin xyz="0 0 0" rpy="0 0 0"/>
      <mass value="1.0"/>
      <inertia ixx="0.01" ixy="0.0" ixz="0.0" iyy="0.01" iyz="0.0" izz="0.01"/>
    </inertial>
    <visual>
      <origin xyz="0.15 -0.0 -0.0" rpy="0 1.57 0" />
      <geometry>
        <cylinder radius="0.01" length="0.3" />
      </geometry>
    </visual>
  </link>

  <!-- RightArm Z/Y/X = (0,0,0) -->
  <joint name="RightShoulder_to_RightArm_rz" type="revolute">
    <parent link="RightShoulder"/>
    <child link="RightArm_rz"/>
    <origin xyz="0.11284134 -0.00000035 -0.00000008" rpy="0 0 0"/>
    <axis xyz="0 0 1"/>
    <limit lower="-3.14159" upper="3.14159" effort="100" velocity="10"/>
  </joint>

  <joint name="RightArm_rz_to_RightArm_ry" type="revolute">
    <parent link="RightArm_rz"/>
    <child link="RightArm_ry"/>
    <origin xyz="0 0 0" rpy="0 0 0"/>
    <axis xyz="0 1 0"/>
    <limit lower="-3.14159" upper="3.14159" effort="100" velocity="10"/>
  </joint>

  <joint name="RightArm_ry_to_RightArm" type="revolute">
    <parent link="RightArm_ry"/>
    <child link="RightArm"/>
    <origin xyz="0 0 0" rpy="0 0 0"/>
    <axis xyz="1 0 0"/>
    <limit lower="-3.14159" upper="3.14159" effort="100" velocity="10"/>
  </joint>

  <link name="RightForeArm_rz">
    <inertial>
      <origin xyz="0 0 0" rpy="0 0 0"/>
      <mass value="1.0"/>
      <inertia ixx="0.01" ixy="0.0" ixz="0.0" iyy="0.01" iyz="0.0" izz="0.01"/>
    </inertial>
  </link>

  <link name="RightForeArm_ry">
    <inertial>
      <origin xyz="0 0 0" rpy="0 0 0"/>
      <mass value="1.0"/>
      <inertia ixx="0.01" ixy="0.0" ixz="0.0" iyy="0.01" iyz="0.0" izz="0.01"/>
    </inertial>
  </link>

  <link name="RightForeArm">
    <inertial>
      <origin xyz="0 0 0" rpy="0 0 0"/>
      <mass value="1.0"/>
      <inertia ixx="0.01" ixy="0.0" ixz="0.0" iyy="0.01" iyz="0.0" izz="0.01"/>
    </inertial>
    <visual>
      <origin xyz="0.1 -0.0 -0.0" rpy="0 1.57 0" />
      <geometry>
        <cylinder radius="0.01" length="0.2" />
      </geometry>
    </visual>
  </link>

  <!-- RightForeArm Z/Y/X = (0,0,0) -->
  <joint name="RightArm_to_RightForeArm_rz" type="revolute">
    <parent link="RightArm"/>
    <child link="RightForeArm_rz"/>
    <origin xyz="0.33000092 0.00000019 0.00000006" rpy="0 0 0"/>
    <axis xyz="0 0 1"/>
    <limit lower="-3.14159" upper="3.14159" effort="100" velocity="10"/>
  </joint>

  <joint name="RightForeArm_rz_to_RightForeArm_ry" type="fixed">
    <parent link="RightForeArm_rz"/>
    <child link="RightForeArm_ry"/>
    <origin xyz="0 0 0" rpy="0 0 0"/>
    <axis xyz="0 1 0"/>
    <limit lower="-3.14159" upper="3.14159" effort="100" velocity="10"/>
  </joint>

  <joint name="RightForeArm_ry_to_RightForeArm" type="fixed">
    <parent link="RightForeArm_ry"/>
    <child link="RightForeArm"/>
    <origin xyz="0 0 0" rpy="0 0 0"/>
    <axis xyz="1 0 0"/>
    <limit lower="-3.14159" upper="3.14159" effort="100" velocity="10"/>
  </joint>

  <link name="RightHand_rz">
    <inertial>
      <origin xyz="0 0 0" rpy="0 0 0"/>
      <mass value="1.0"/>
      <inertia ixx="0.01" ixy="0.0" ixz="0.0" iyy="0.01" iyz="0.0" izz="0.01"/>
    </inertial>
  </link>

  <link name="RightHand_ry">
    <inertial>
      <origin xyz="0 0 0" rpy="0 0 0"/>
      <mass value="1.0"/>
      <inertia ixx="0.01" ixy="0.0" ixz="0.0" iyy="0.01" iyz="0.0" izz="0.01"/>
    </inertial>
  </link>

  <link name="RightHand">
    <inertial>
      <origin xyz="0 0 0" rpy="0 0 0"/>
      <mass value="1.0"/>
      <inertia ixx="0.01" ixy="0.0" ixz="0.0" iyy="0.01" iyz="0.0" izz="0.01"/>
    </inertial>
    <visual>
      <geometry>
        <sphere radius="0.02"/>
      </geometry>
    </visual>
  </link>

  <!-- RightHand Z/Y/X = (0,0,0) -->
  <joint name="RightForeArm_to_RightHand_rz" type="fixed">
    <parent link="RightForeArm"/>
    <child link="RightHand_rz"/>
    <origin xyz="0.25199776 0.00000139 0.00000431" rpy="0 0 0"/>
    <axis xyz="0 0 1"/>
    <limit lower="-3.14159" upper="3.14159" effort="100" velocity="10"/>
  </joint>

  <joint name="RightHand_rz_to_RightHand_ry" type="fixed">
    <parent link="RightHand_rz"/>
    <child link="RightHand_ry"/>
    <origin xyz="0 0 0" rpy="0 0 0"/>
    <axis xyz="0 1 0"/>
    <limit lower="-3.14159" upper="3.14159" effort="100" velocity="10"/>
  </joint>

  <joint name="RightHand_ry_to_RightHand" type="fixed">
    <parent link="RightHand_ry"/>
    <child link="RightHand"/>
    <origin xyz="0 0 0" rpy="0 0 0"/>
    <axis xyz="1 0 0"/>
    <!-- 修正：upper 从 -3.14159 改成 3.14159 -->
    <limit lower="-3.14159" upper="3.14159" effort="100" velocity="10"/>
  </joint>

  <link name="RightHand_End">
    <inertial>
      <origin xyz="0 0 0" rpy="0 0 0"/>
      <mass value="1.0"/>
      <inertia ixx="0.01" ixy="0.0" ixz="0.0" iyy="0.01" iyz="0.0" izz="0.01"/>
    </inertial>
    <visual>
      <geometry>
        <sphere radius="0.02"/>
      </geometry>
    </visual>
  </link>

  <joint name="RightHand_to_RightHand_End" type="fixed">
    <parent link="RightHand"/>
    <child link="RightHand_End"/>
    <origin xyz="0 0 0" rpy="0 0 0"/>
  </joint>


</robot>
